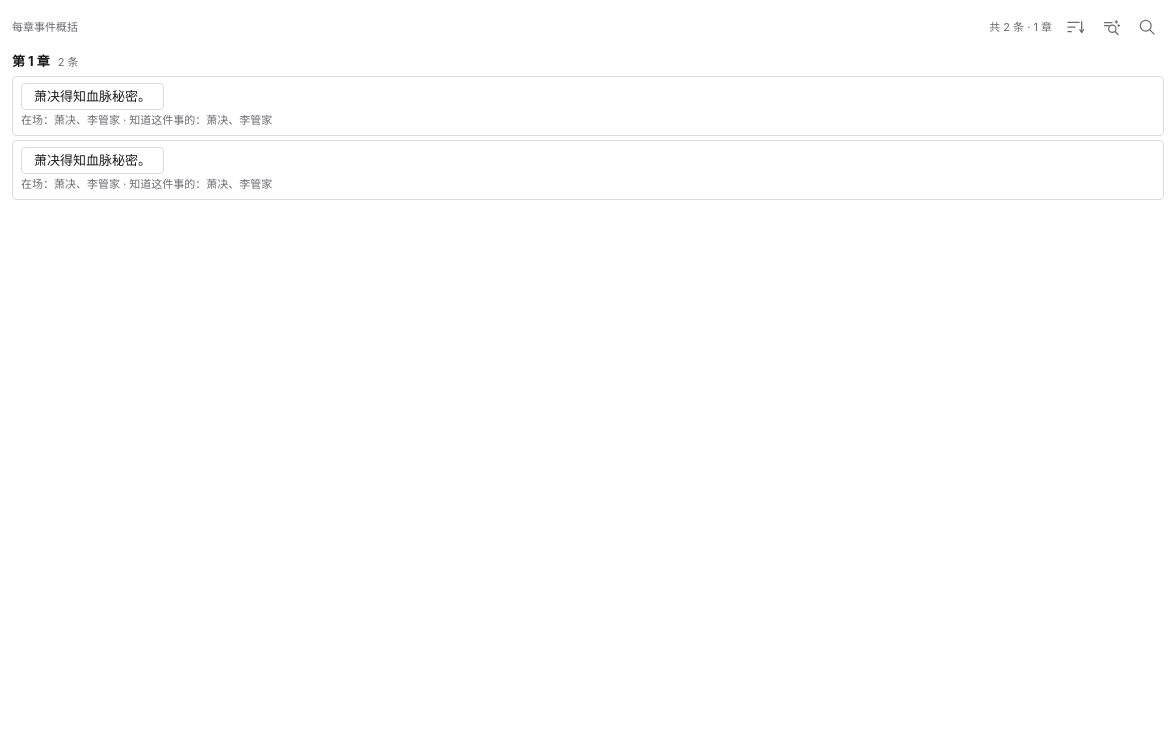
Scenario: 已确认的情节：谁在场、谁知道了 › 分析跑完那一刻，这张单子自己重取——不用换一次 tab 才看见
Click the button named "分析本章".
click(1111, 27)  # box 1094,12 -> 1128,42
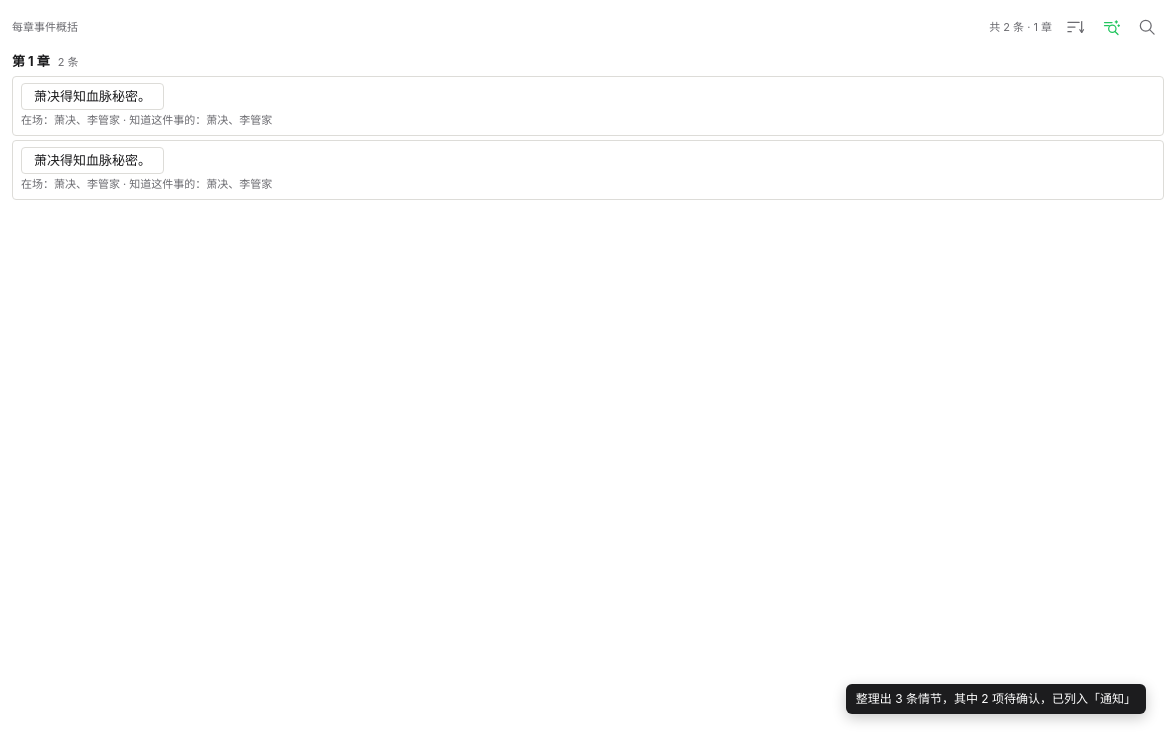
Check: the text "整理出 3 条情节，其中 2 项待确认，已列入「通知」" is shown, box 846,684 -> 1146,714
